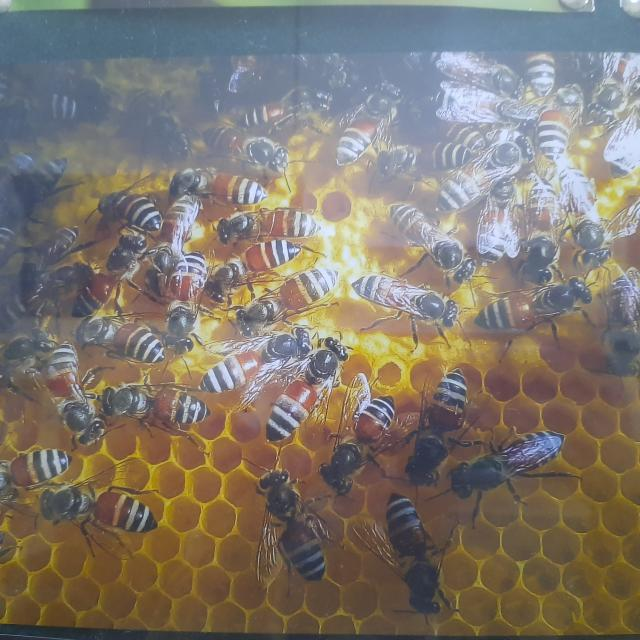honeybee: (245, 451, 333, 602), (462, 410, 581, 512), (30, 477, 171, 556), (261, 336, 351, 450), (407, 352, 475, 500), (386, 491, 456, 626), (386, 192, 476, 288), (325, 378, 392, 501), (479, 278, 591, 350), (142, 188, 232, 276), (202, 328, 316, 396), (544, 162, 613, 269), (102, 370, 217, 434), (441, 128, 534, 206), (237, 262, 349, 326), (326, 75, 401, 169), (116, 76, 192, 167), (360, 264, 452, 339), (432, 80, 574, 127), (212, 237, 308, 305), (164, 149, 281, 203), (153, 242, 208, 356), (83, 232, 156, 314), (209, 202, 336, 246), (71, 307, 167, 364), (195, 114, 289, 172), (47, 339, 99, 442), (586, 44, 640, 133), (537, 80, 591, 168), (599, 269, 640, 384), (476, 158, 518, 269), (206, 240, 313, 283), (0, 323, 57, 396), (427, 54, 525, 96), (0, 439, 76, 493), (237, 85, 334, 127), (92, 181, 167, 235), (0, 83, 90, 128), (520, 175, 560, 276), (376, 138, 472, 180), (0, 269, 73, 315), (29, 158, 81, 197), (0, 140, 34, 197), (40, 220, 85, 260), (526, 53, 558, 101), (0, 224, 26, 253)
